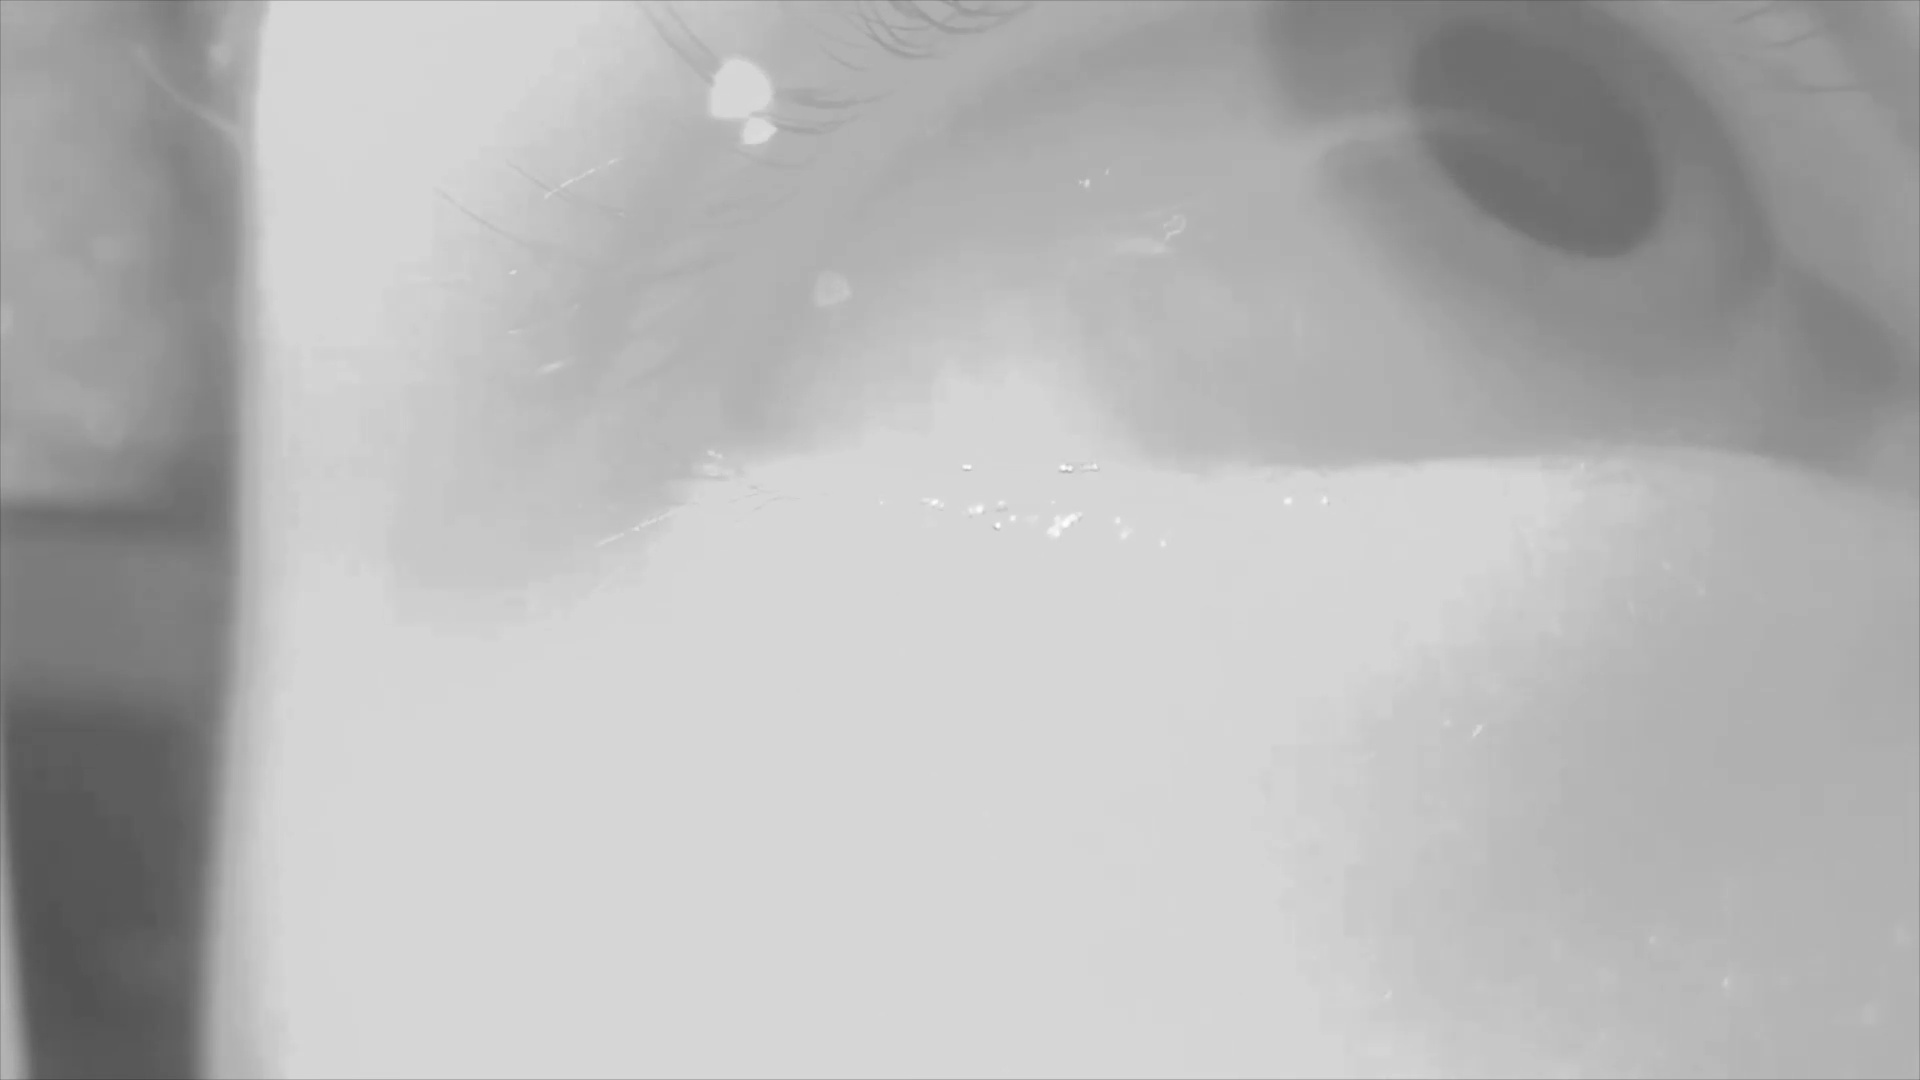pupil: (1416, 17, 1667, 258)
